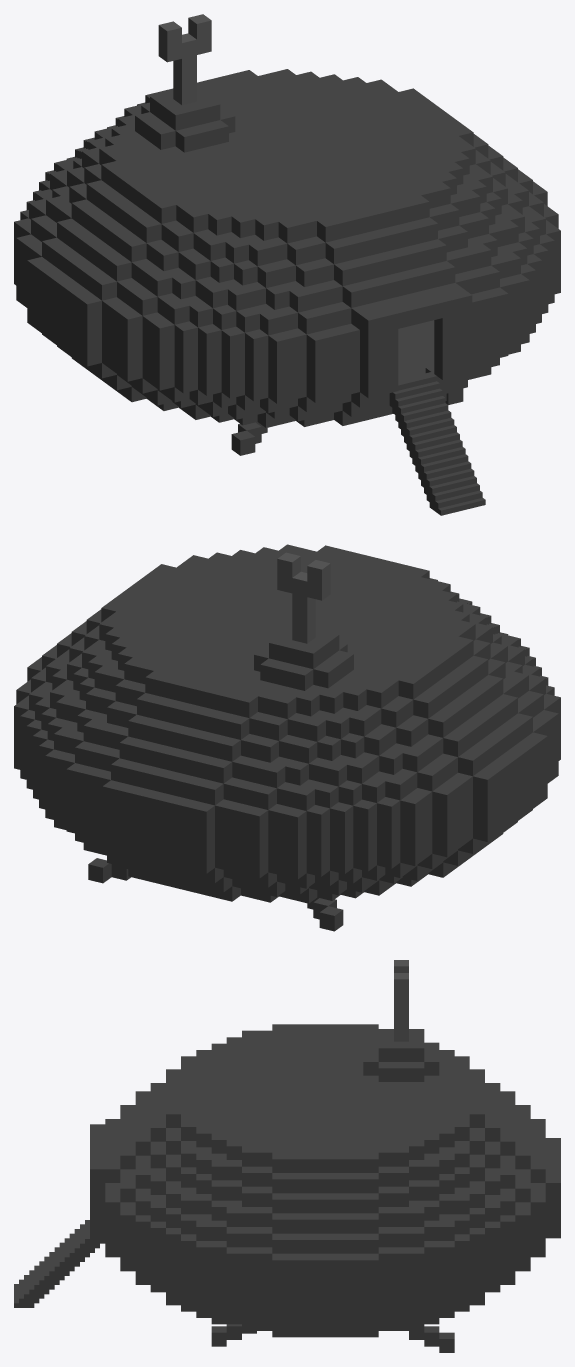
The model's file is ship.obj.
The picture shows the model from 3 angles, top to bottom: view 1: azimuth 30°, elevation 25°; view 2: azimuth 150°, elevation 25°; view 3: azimuth 270°, elevation 25°; orthographic projection. The views are drawn at different scales.
Bounding box in the file's own units: 9.3 × 6.6 × 10.8.
1 material, 1 textured.
